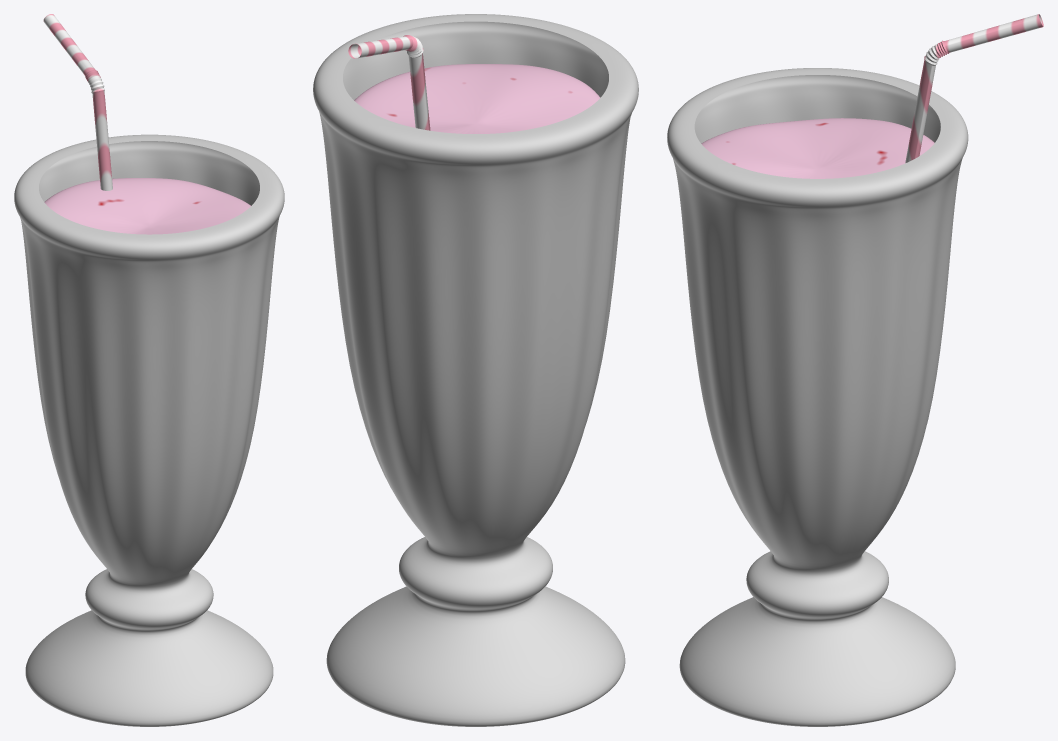
Rendered from milk.glb.
The picture shows the model from 3 angles, left to right: view 1: azimuth 30°, elevation 25°; view 2: azimuth 150°, elevation 25°; view 3: azimuth 270°, elevation 25°; orthographic projection. The views are drawn at different scales.
Visible parts, largest first — view 1: Cup, Strawberry Milk, Straw; view 2: Cup, Strawberry Milk, Straw; view 3: Cup, Strawberry Milk, Straw.
Part boxes in pixels (box(x1,y1,x2,y2)): Cup: box(14, 134, 284, 726); Strawberry Milk: box(44, 178, 250, 234); Straw: box(43, 14, 112, 190); Cup: box(313, 14, 638, 726); Strawberry Milk: box(354, 64, 600, 133); Straw: box(348, 35, 430, 130); Cup: box(667, 68, 968, 726); Strawberry Milk: box(701, 118, 934, 178); Straw: box(905, 14, 1043, 162).
Bounding box in the file's own units: 0.6032 × 1.45 × 0.7544.
Materials: 3 (2 with a texture image).
